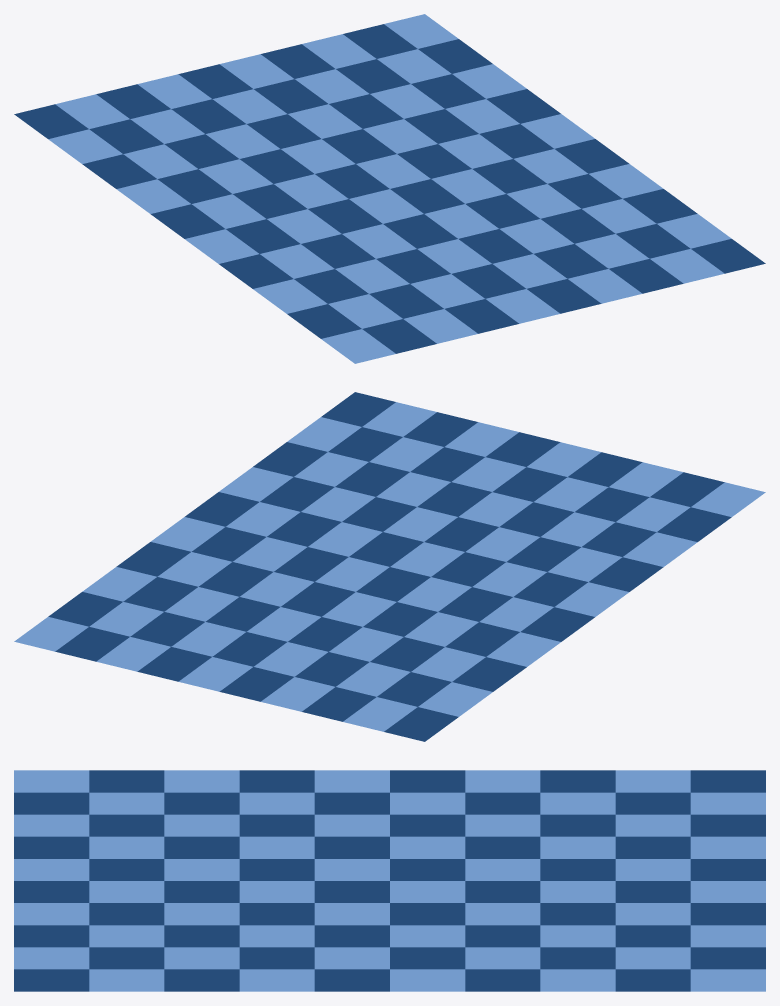
File: 3d_carpet.fbx
3 views of the same model, one above another, from view 1: azimuth 30°, elevation 25°; view 2: azimuth 150°, elevation 25°; view 3: azimuth 270°, elevation 25° (orthographic). The views are drawn at different scales.
Visible parts, largest first — view 1: 3d_carpet; view 2: 3d_carpet; view 3: 3d_carpet.
Part boxes in pixels (bbox=[...]): 3d_carpet: bbox=[14, 14, 765, 363]; 3d_carpet: bbox=[14, 392, 765, 741]; 3d_carpet: bbox=[14, 770, 765, 991].
Size of the model in its own units: 1.66 by 2.32e-14 by 2.39.
